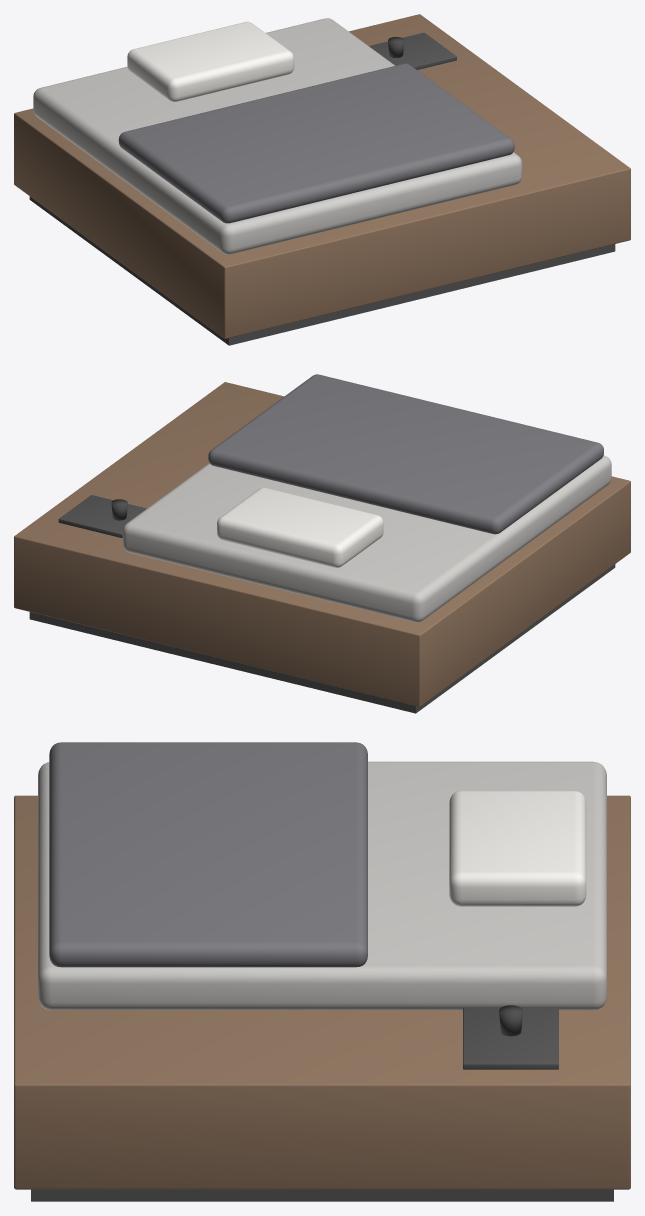
The model's file is it_platform.glb.
3 views of the same model, one above another, from view 1: azimuth 30°, elevation 25°; view 2: azimuth 150°, elevation 25°; view 3: azimuth 270°, elevation 25° (orthographic). The views are drawn at different scales.
Visible parts, largest first — view 1: platform, duvet, mattress, pillow, plinth, tray; view 2: platform, duvet, mattress, pillow, plinth, tray; view 3: platform, duvet, mattress, pillow, plinth, tray, cup.
Boxes of the visible parts, x1,y1,x2,y2 form: platform: (14, 14, 630, 338); duvet: (118, 63, 514, 223); mattress: (33, 18, 522, 254); pillow: (127, 21, 294, 101); plinth: (29, 196, 615, 345); tray: (369, 32, 456, 69); platform: (14, 382, 630, 706); duvet: (208, 374, 603, 534); mattress: (122, 455, 611, 622); pillow: (217, 487, 383, 567); plinth: (29, 564, 615, 713); tray: (58, 495, 146, 538); platform: (14, 795, 630, 1189); duvet: (49, 742, 367, 967); mattress: (38, 761, 606, 1010); pillow: (449, 791, 586, 906); plinth: (31, 1189, 613, 1201); tray: (463, 1008, 558, 1069); cup: (499, 1005, 522, 1036).
Bounding box in the file's own units: 2 × 0.645 × 1.8.
